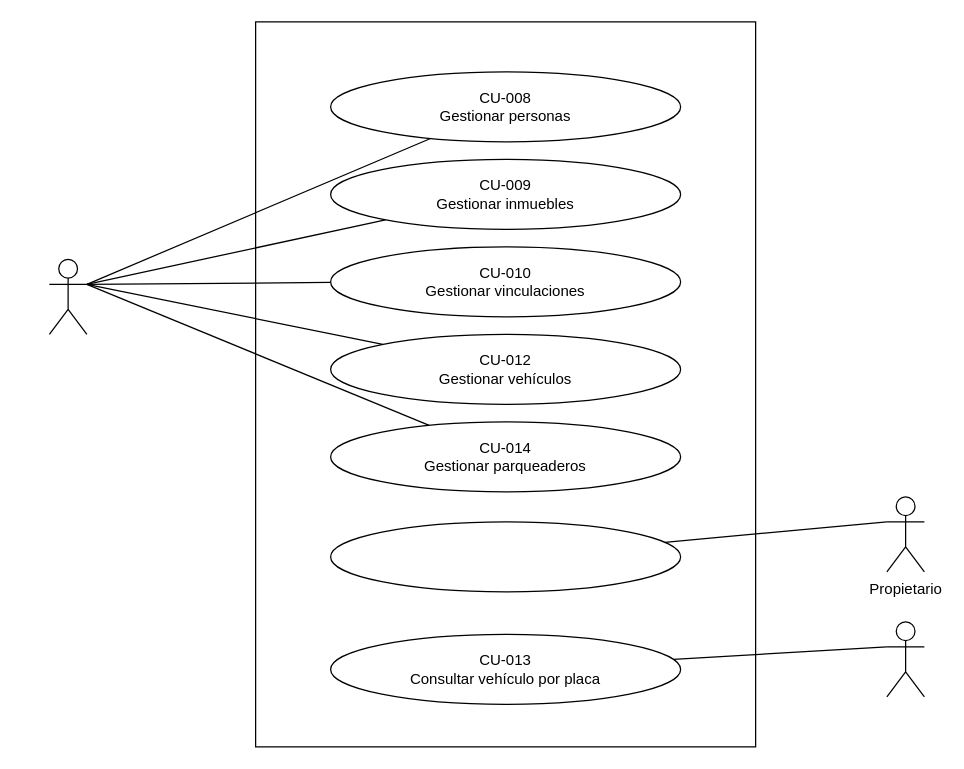
The diagram is 964 pixels wide and 769 high, and some of its shapes have lost their labels. Each missing label, with the box of its shape:
Administrador: (48, 258, 87, 334)
CU-011 Consultar inmuebles propios: (329, 521, 681, 592)
Módulo Administración: (254, 21, 756, 747)
Vigilante: (886, 621, 924, 697)
